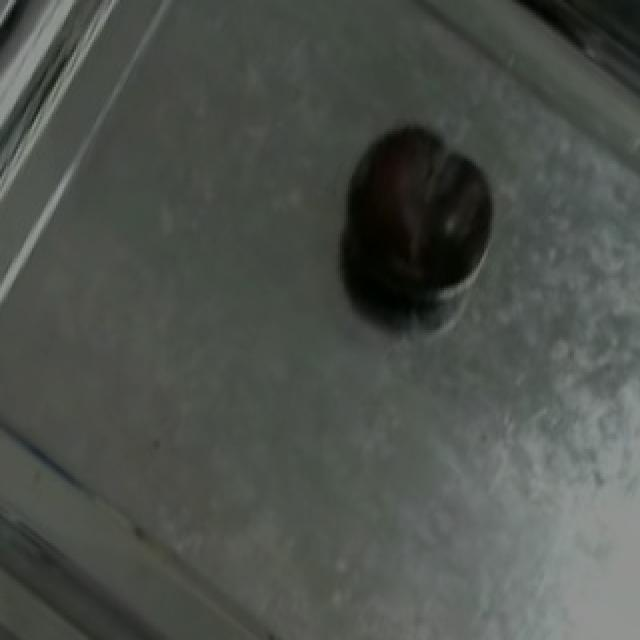Fruit: (332, 111, 506, 312)
